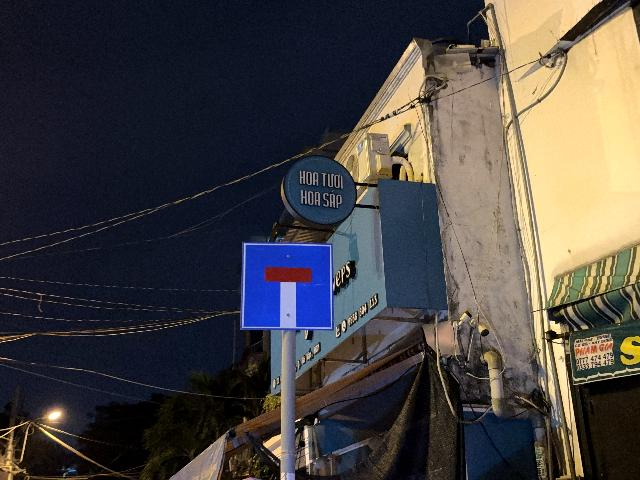duong-cut: (240, 242, 333, 330)
